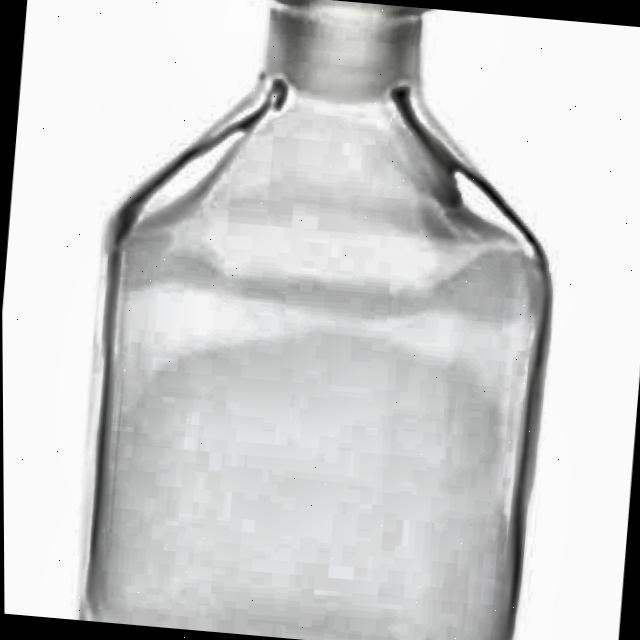glass: (76, 0, 548, 640)
